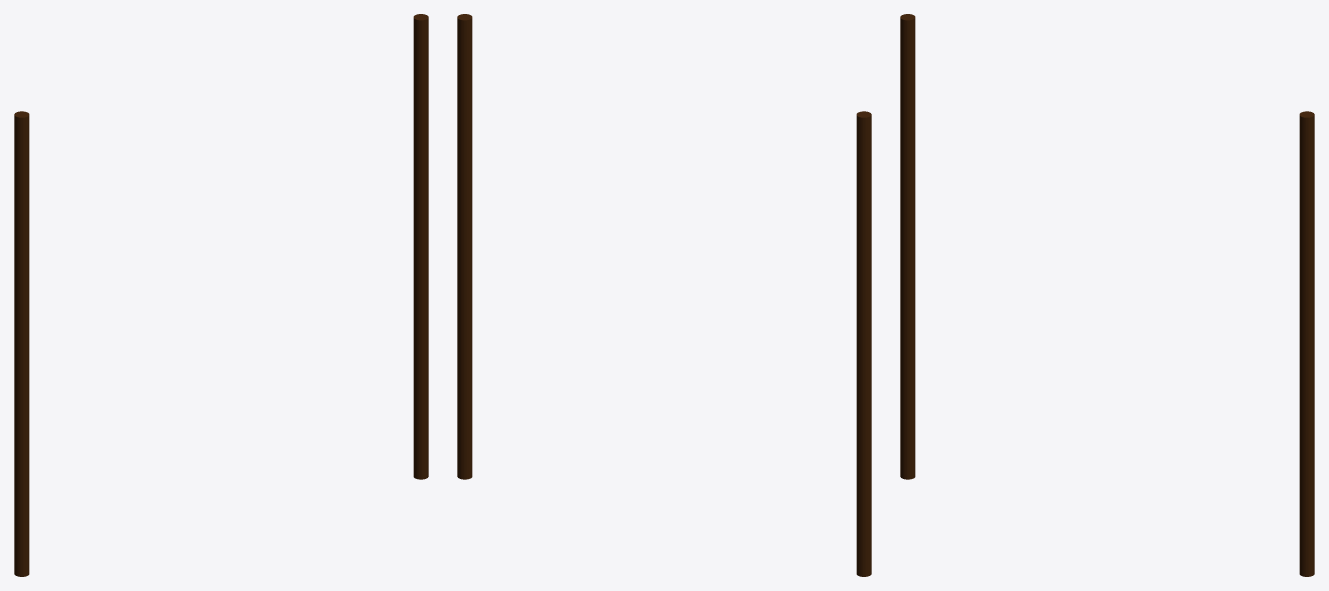
File: ElevaotrRope.fbx
3 renders of one model, left to right at view 1: azimuth 30°, elevation 25°; view 2: azimuth 150°, elevation 25°; view 3: azimuth 330°, elevation 25°, orthographic.
Parts seen in each view (by area): view 1: Cylinder.001; view 2: Cylinder.001; view 3: Cylinder.001.
Boxes of the visible parts, left/top/right/bottom form: Cylinder.001: left=14, top=14, right=428, bottom=576; Cylinder.001: left=457, top=14, right=871, bottom=576; Cylinder.001: left=900, top=14, right=1314, bottom=576.
Size of the model in its own units: 182 by 194 by 5.78.
